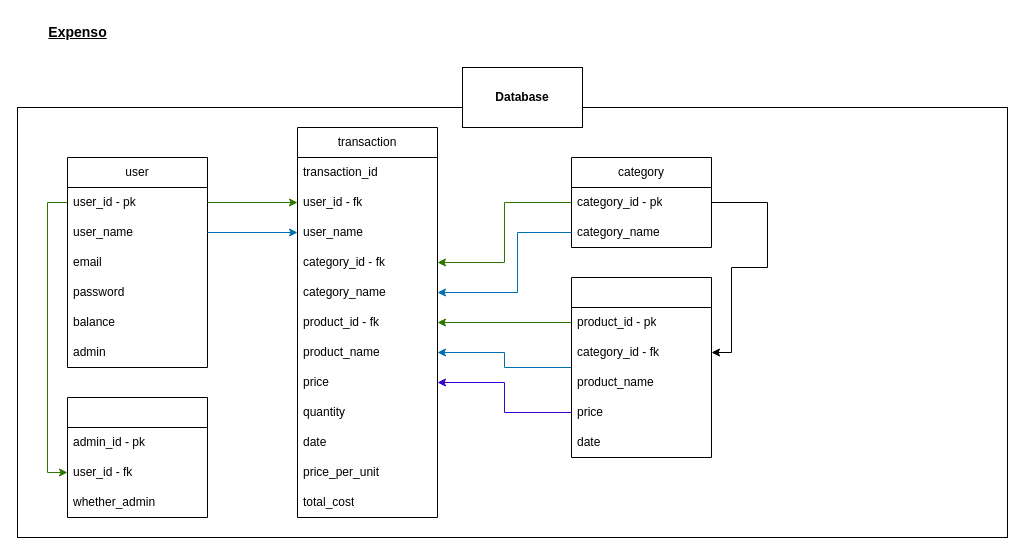
This 1025x555 diagram has some shape labels left out. Each missing label, with the box of its shape:
admins: (66, 396, 208, 518)
products: (570, 276, 712, 458)
